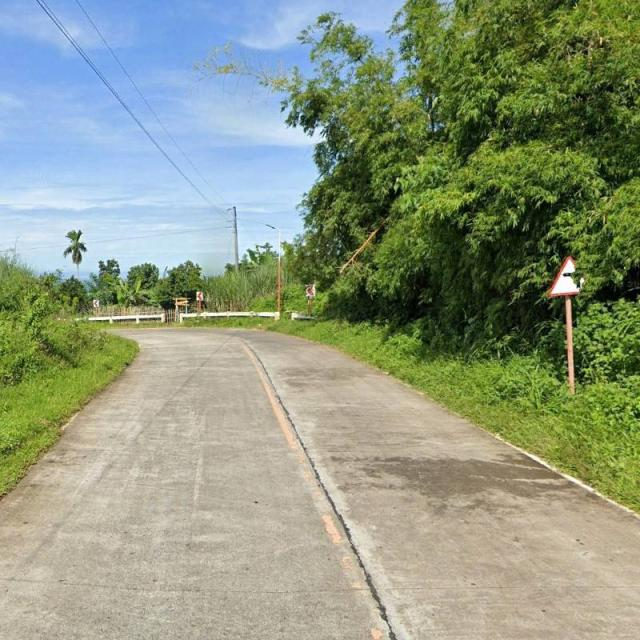warn_left_curve: (548, 256, 592, 296)
